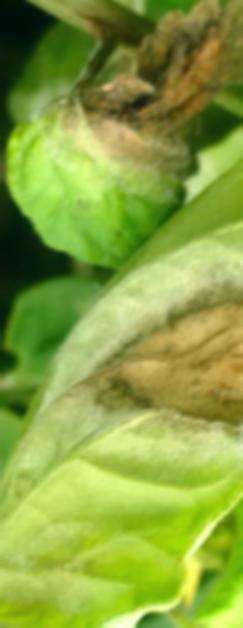Tomato leaf late blight: (0, 0, 243, 628), (0, 0, 243, 271)
